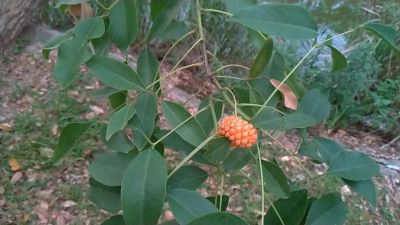eggs: (215, 110, 259, 149)
